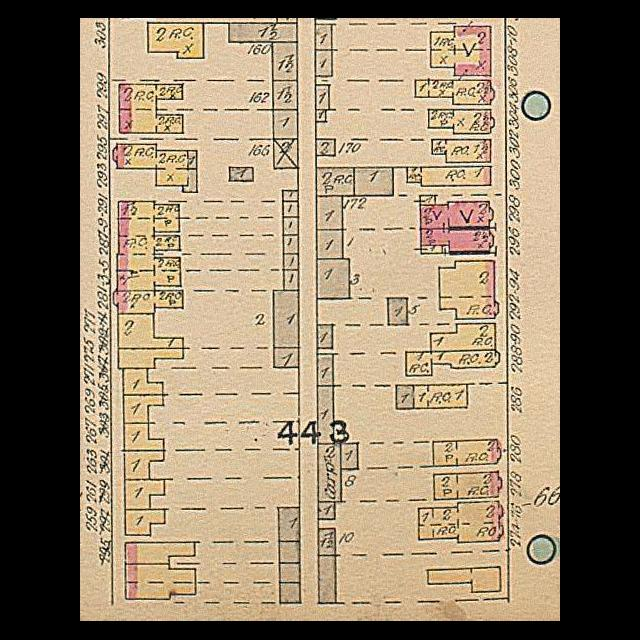building-footprints: (117, 202, 180, 291), (113, 145, 197, 193), (439, 261, 499, 319), (419, 501, 503, 542), (119, 85, 182, 134), (430, 27, 491, 76), (126, 565, 196, 600), (406, 350, 500, 376), (118, 315, 183, 349), (148, 23, 204, 59), (415, 80, 494, 105), (420, 202, 493, 229), (434, 472, 501, 500), (428, 567, 501, 592), (431, 324, 495, 352), (396, 385, 467, 409), (433, 441, 501, 466), (113, 291, 183, 315), (421, 229, 493, 252), (428, 110, 494, 134), (408, 167, 491, 186), (125, 543, 195, 565), (273, 291, 299, 348), (432, 140, 491, 163), (318, 444, 341, 502), (316, 260, 349, 300), (118, 349, 183, 369), (229, 24, 297, 42), (125, 480, 164, 510), (124, 423, 164, 452), (123, 395, 163, 424), (125, 451, 163, 480), (316, 168, 354, 197), (354, 168, 393, 196), (123, 369, 163, 396), (125, 510, 164, 536), (317, 386, 334, 444), (272, 42, 297, 81), (316, 196, 342, 230), (318, 556, 336, 604), (317, 230, 343, 259), (273, 81, 298, 111), (274, 139, 298, 169), (274, 110, 298, 140), (279, 508, 300, 542), (317, 354, 333, 387), (274, 347, 299, 368), (388, 298, 407, 325), (318, 529, 336, 556), (279, 542, 300, 564), (341, 444, 358, 470), (315, 25, 332, 51), (280, 583, 301, 603), (316, 51, 332, 77), (280, 563, 300, 583), (317, 325, 333, 349), (316, 85, 330, 111), (316, 139, 335, 157), (229, 168, 253, 182), (284, 270, 299, 291), (318, 502, 335, 520), (283, 217, 299, 236), (283, 236, 299, 254), (283, 254, 299, 270), (283, 202, 298, 218), (283, 191, 298, 202), (316, 110, 326, 122), (277, 19, 297, 24)
